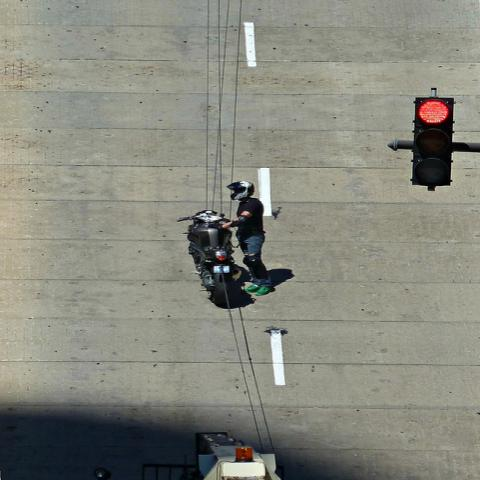motorcycle: (172, 209, 244, 308)
